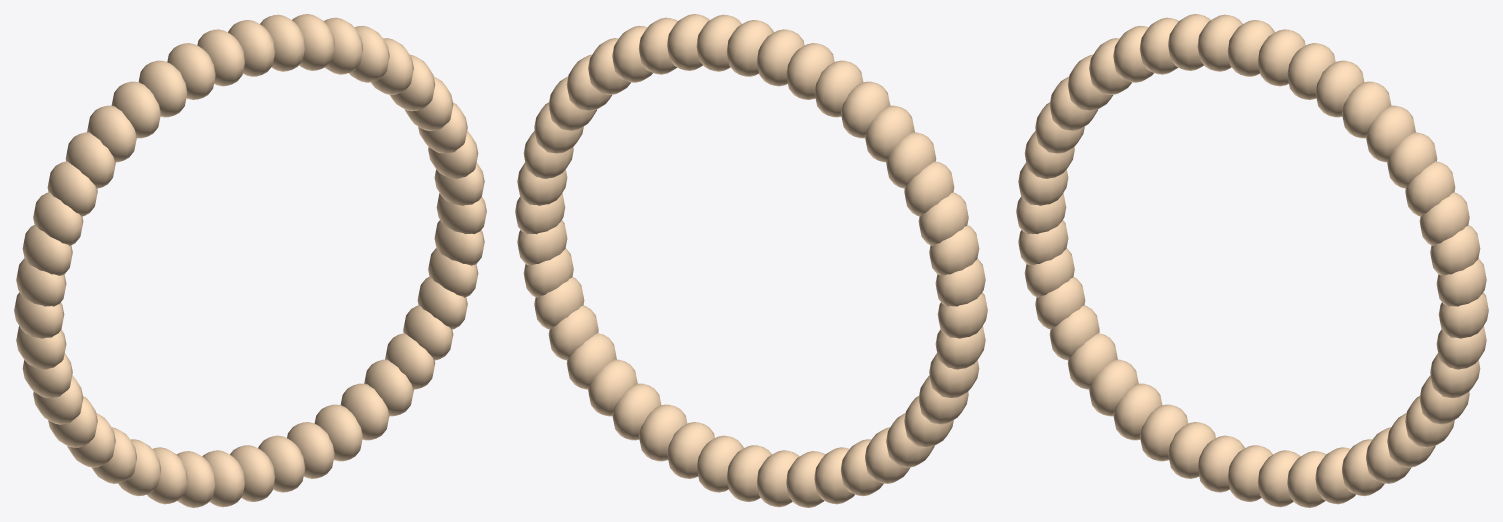
The model's file is goal-neutral.glb.
3 renders of one model, left to right at view 1: azimuth 30°, elevation 25°; view 2: azimuth 150°, elevation 25°; view 3: azimuth 330°, elevation 25°, orthographic.
Parts seen in each view (by area): view 1: goal-neutral-15, goal-neutral-16, goal-neutral-14, goal-neutral-17, goal-neutral-13, goal-neutral-18, goal-neutral-12, goal-neutral-36, goal-neutral-37, goal-neutral-35, goal-neutral-38, goal-neutral-19 (+32 smaller); view 2: goal-neutral-15, goal-neutral-16, goal-neutral-14, goal-neutral-17, goal-neutral-13, goal-neutral-18, goal-neutral-12, goal-neutral-36, goal-neutral-37, goal-neutral-35, goal-neutral-38, goal-neutral-19 (+32 smaller); view 3: goal-neutral-7, goal-neutral-6, goal-neutral-8, goal-neutral-5, goal-neutral-9, goal-neutral-4, goal-neutral-10, goal-neutral-30, goal-neutral-29, goal-neutral-31, goal-neutral-28, goal-neutral-3 (+32 smaller).
Boxes of the visible parts, x1,y1,x2,y2 form: goal-neutral-15: (111, 81, 160, 138); goal-neutral-16: (87, 105, 136, 162); goal-neutral-14: (138, 60, 187, 117); goal-neutral-17: (65, 132, 115, 188); goal-neutral-13: (167, 43, 215, 99); goal-neutral-18: (47, 161, 97, 216); goal-neutral-12: (197, 29, 245, 86); goal-neutral-36: (314, 404, 362, 461); goal-neutral-37: (340, 383, 389, 440); goal-neutral-35: (287, 422, 334, 478); goal-neutral-38: (364, 359, 413, 416); goal-neutral-19: (33, 192, 83, 245); goal-neutral-15: (841, 81, 890, 138); goal-neutral-16: (865, 105, 914, 162); goal-neutral-14: (814, 60, 863, 117); goal-neutral-17: (886, 132, 936, 188); goal-neutral-13: (786, 43, 834, 99); goal-neutral-18: (904, 161, 954, 216); goal-neutral-12: (756, 29, 804, 86); goal-neutral-36: (639, 404, 687, 461); goal-neutral-37: (612, 383, 661, 440); goal-neutral-35: (667, 422, 714, 478); goal-neutral-38: (588, 359, 637, 416); goal-neutral-19: (918, 192, 968, 245); goal-neutral-7: (1342, 81, 1391, 138); goal-neutral-6: (1366, 105, 1415, 162); goal-neutral-8: (1315, 60, 1364, 117); goal-neutral-5: (1387, 132, 1437, 188); goal-neutral-9: (1287, 43, 1335, 99); goal-neutral-4: (1405, 161, 1455, 216); goal-neutral-10: (1257, 29, 1305, 86); goal-neutral-30: (1140, 404, 1188, 461); goal-neutral-29: (1113, 383, 1162, 440); goal-neutral-31: (1168, 422, 1215, 478); goal-neutral-28: (1089, 359, 1138, 416); goal-neutral-3: (1419, 192, 1469, 245).
Size of the model in its own units: 5.68 by 5.6 by 0.7.
